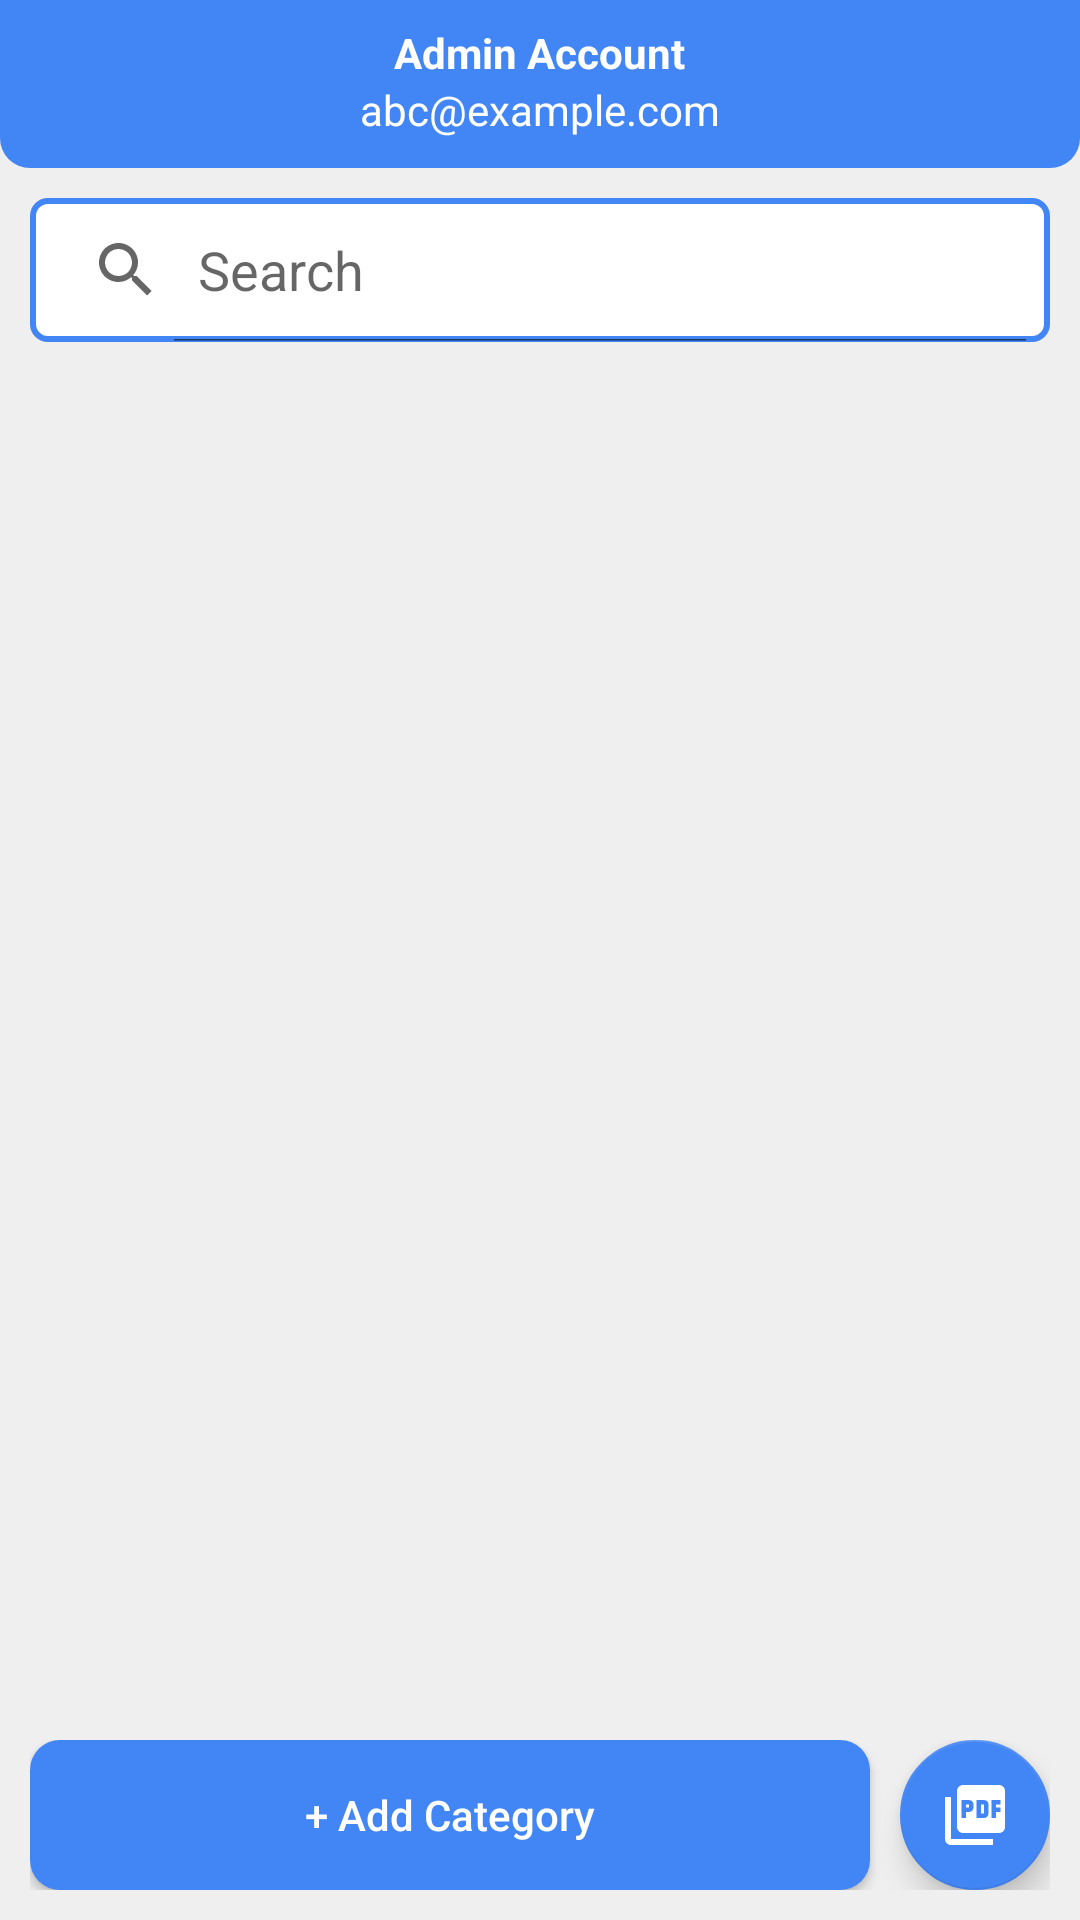

Icons on this 1080w x 1920h Android screen, each with its box as detection(x1, y1, x2, y2):
add pdf: detection(900, 1740, 1050, 1890)
